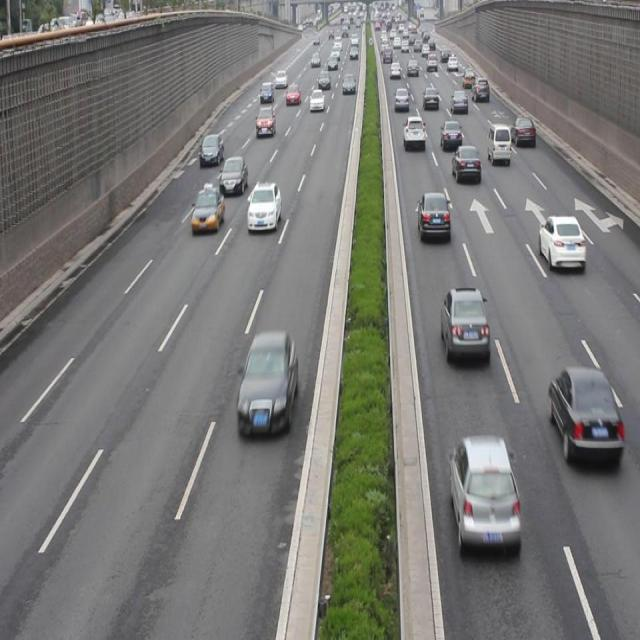car: (450, 434, 520, 550), (548, 365, 622, 467), (237, 330, 297, 439), (440, 286, 488, 364), (538, 213, 584, 270), (246, 180, 281, 234), (190, 184, 224, 236), (417, 190, 449, 242), (451, 143, 479, 185), (219, 154, 247, 194), (199, 131, 224, 168), (402, 114, 427, 150), (510, 116, 534, 149), (440, 118, 461, 151), (255, 105, 275, 138)
truck: (486, 122, 511, 164)
